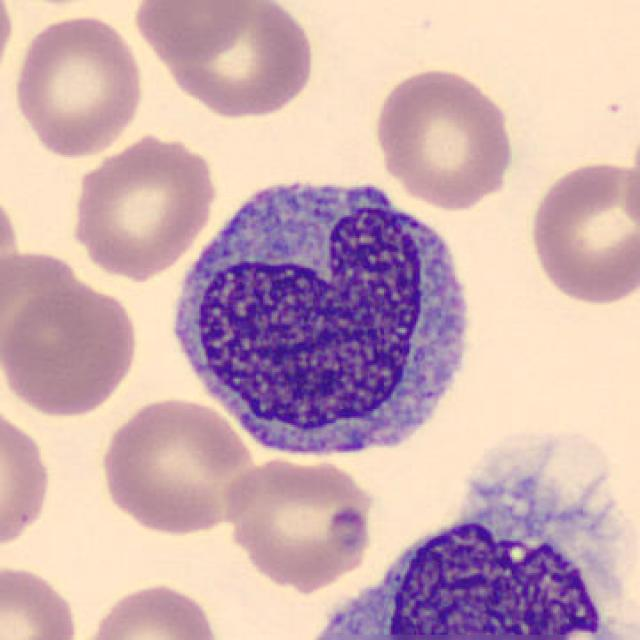Monocyte: (158, 158, 489, 472), (292, 421, 636, 640)
RBC: (95, 393, 262, 538), (66, 129, 220, 282), (220, 451, 378, 589), (370, 63, 517, 210), (9, 11, 147, 160), (150, 0, 318, 122), (2, 278, 144, 419), (524, 155, 636, 307), (0, 237, 89, 378), (73, 578, 226, 640), (0, 397, 55, 559), (130, 0, 256, 65), (0, 559, 82, 640)
